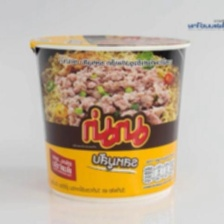paper_cup: (25, 30, 196, 207)
